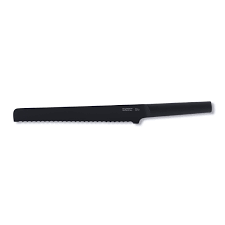breadknife: (12, 105, 213, 124)
